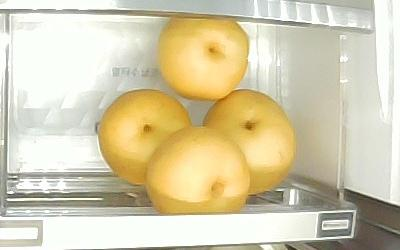pear: (202, 90, 298, 195), (98, 88, 192, 186), (147, 126, 250, 213), (157, 14, 250, 101)
